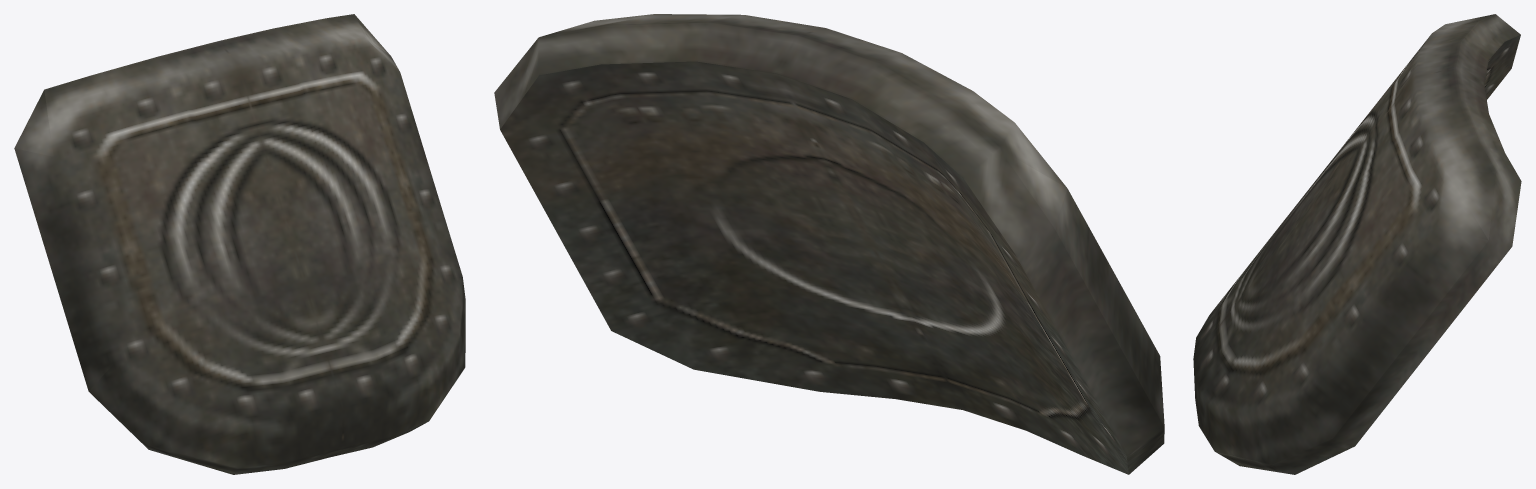
3 views of the same model, side by side, from view 1: azimuth 30°, elevation 25°; view 2: azimuth 150°, elevation 25°; view 3: azimuth 270°, elevation 25° (orthographic). The views are drawn at different scales.
Parts seen in each view (by area): view 1: iron plate; view 2: iron plate; view 3: iron plate.
Boxes of the visible parts, bbox=[...] form: iron plate: bbox=[14, 14, 465, 474]; iron plate: bbox=[494, 14, 1164, 474]; iron plate: bbox=[1193, 14, 1521, 474].
Size of the model in its own units: 126 by 108 by 90.52.
Materials: 1 (1 with a texture image).
